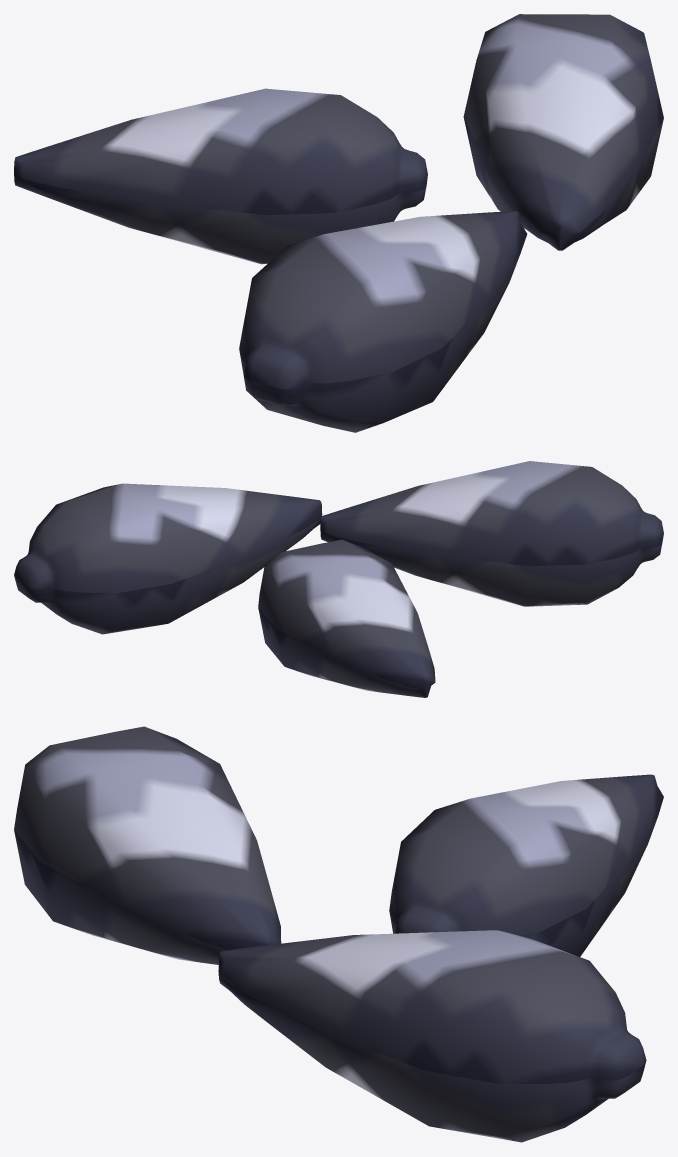
File: (OLD)Cotton Seed.fbx
3 renders of one model, top to bottom at view 1: azimuth 30°, elevation 25°; view 2: azimuth 150°, elevation 25°; view 3: azimuth 270°, elevation 25°, orthographic. The views are drawn at different scales.
Parts seen in each view (by area): view 1: Cotton_Seed_Drop2; view 2: Cotton_Seed_Drop2; view 3: Cotton_Seed_Drop2.
Part boxes in pixels (bbox=[...]): Cotton_Seed_Drop2: bbox=[14, 14, 663, 432]; Cotton_Seed_Drop2: bbox=[14, 461, 663, 697]; Cotton_Seed_Drop2: bbox=[14, 726, 663, 1142].
Bounding box in the file's own units: 10.13 × 2.45 × 8.82.
Materials: 1 (1 with a texture image).
